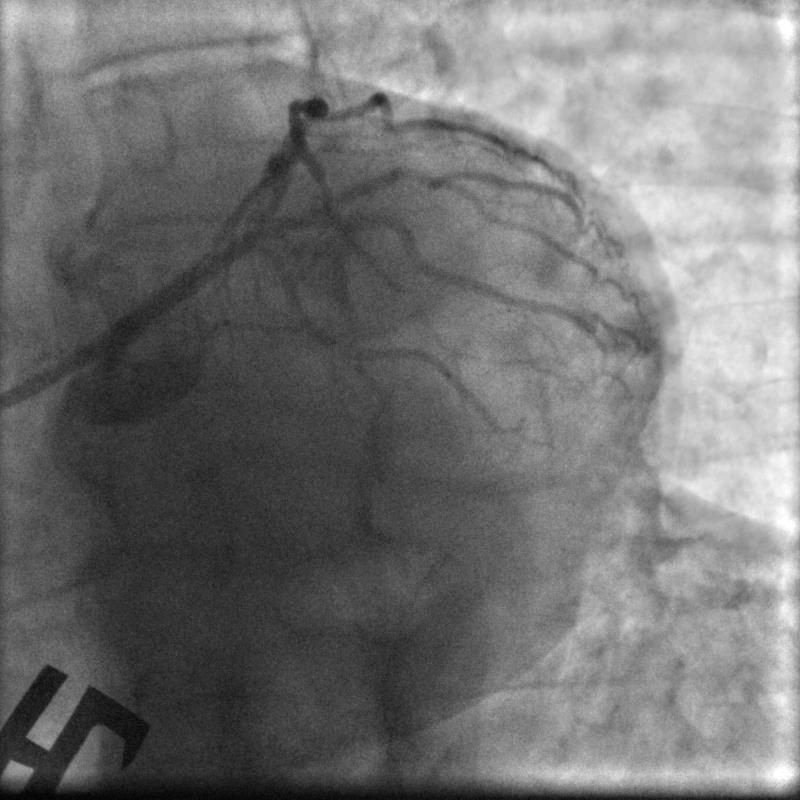Stenosis: (392, 162, 439, 192)
